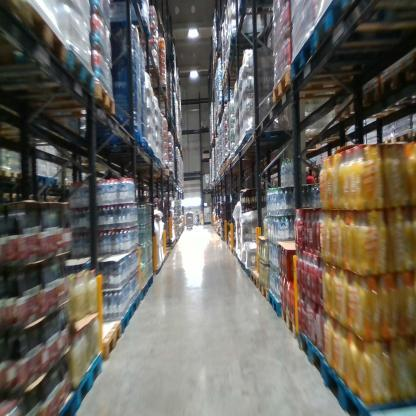pallets: (1, 2, 127, 120), (258, 0, 374, 127), (33, 317, 129, 416), (295, 322, 385, 416), (233, 261, 294, 332), (105, 264, 158, 334)
